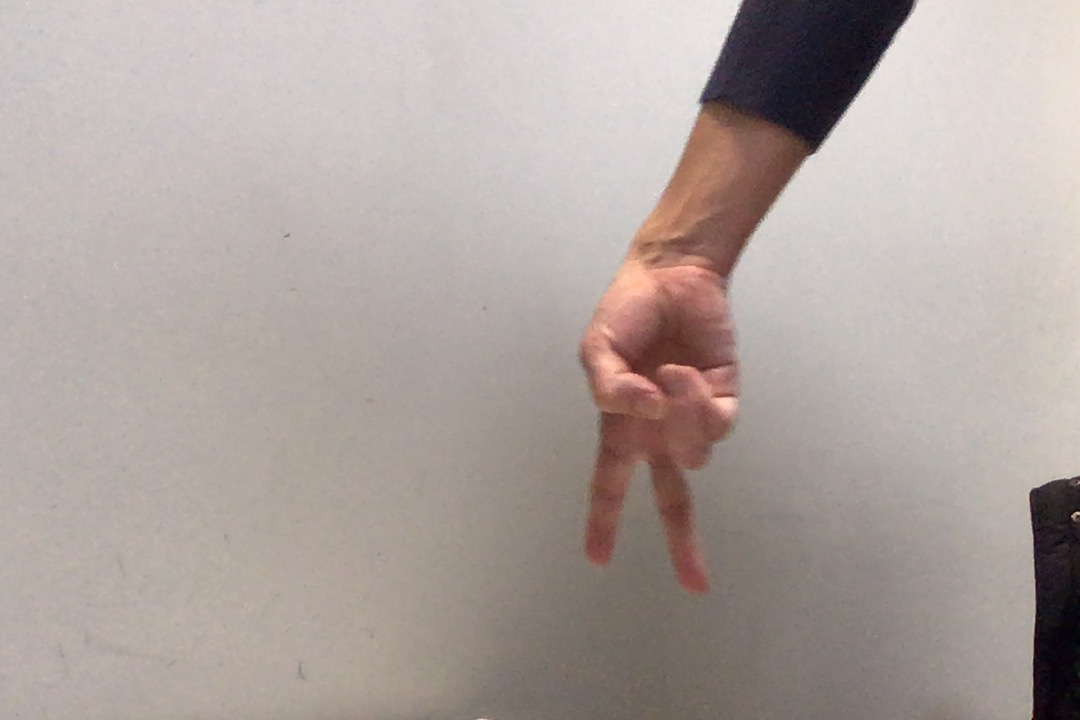peacesign: (576, 266, 744, 599)
